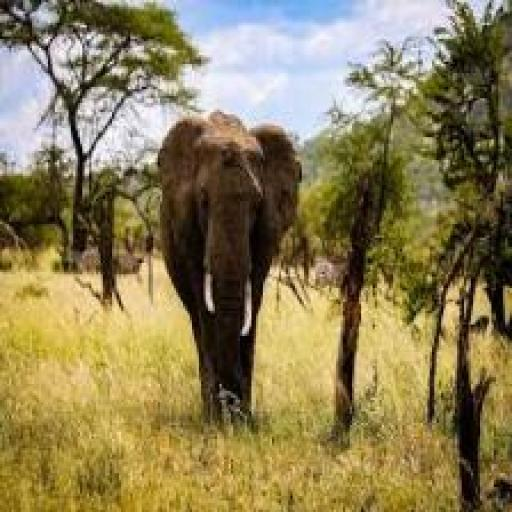Elephant: (149, 112, 297, 423)
